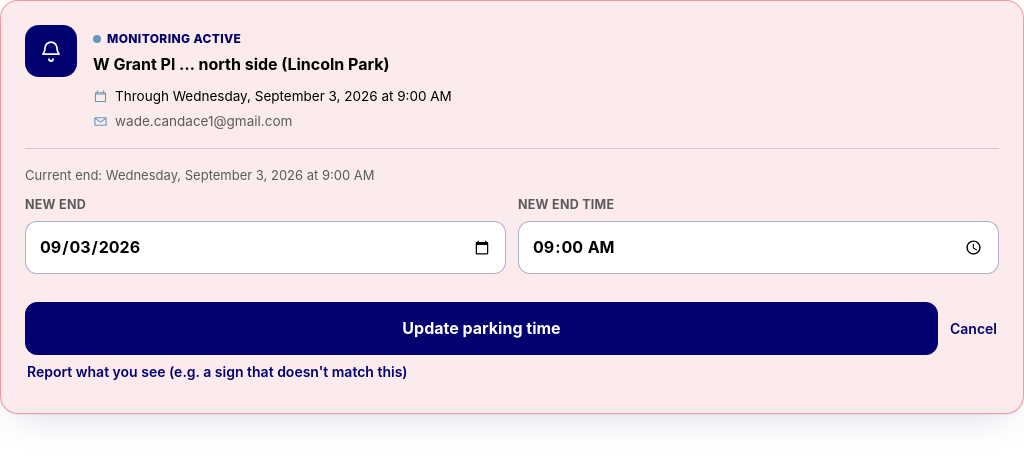
Scenario: MonitorBanner › successful extend updates the monitor and shows the re-evaluated result
Step 1. Type "2026-09-06" into the date field labelled "New end" → (266, 248), box [25,221,506,274]
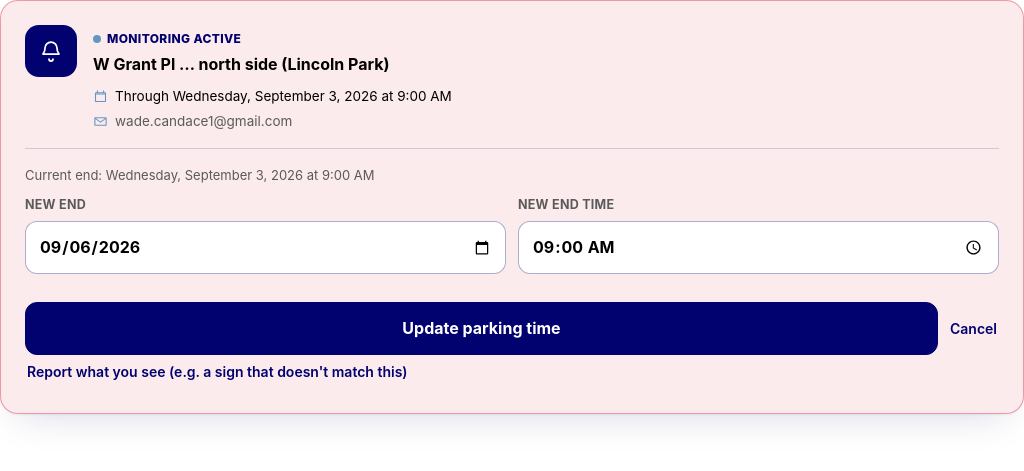
Step 2. Replace the text in the time field showing "09:00" with "12:00" → (758, 248), box [518,221,999,274]
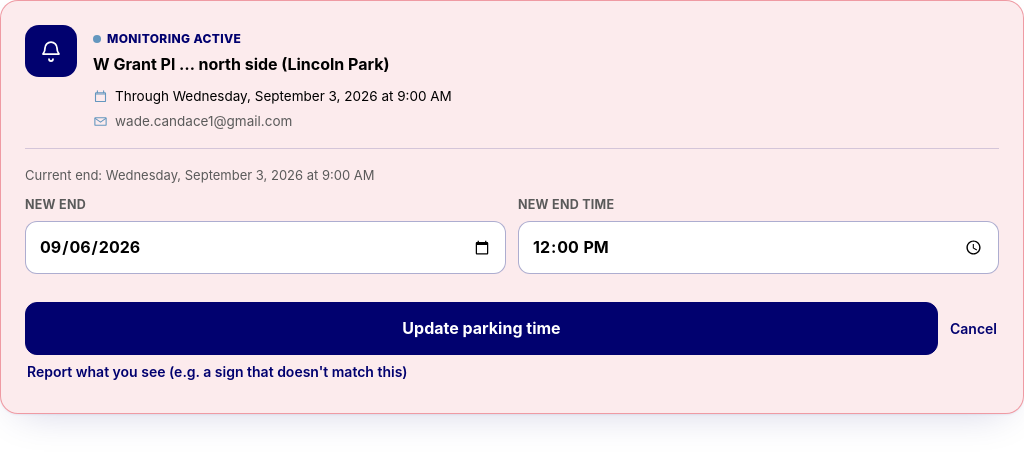
Step 3. Click the button "Update parking time" → (482, 328), box [25,302,938,355]
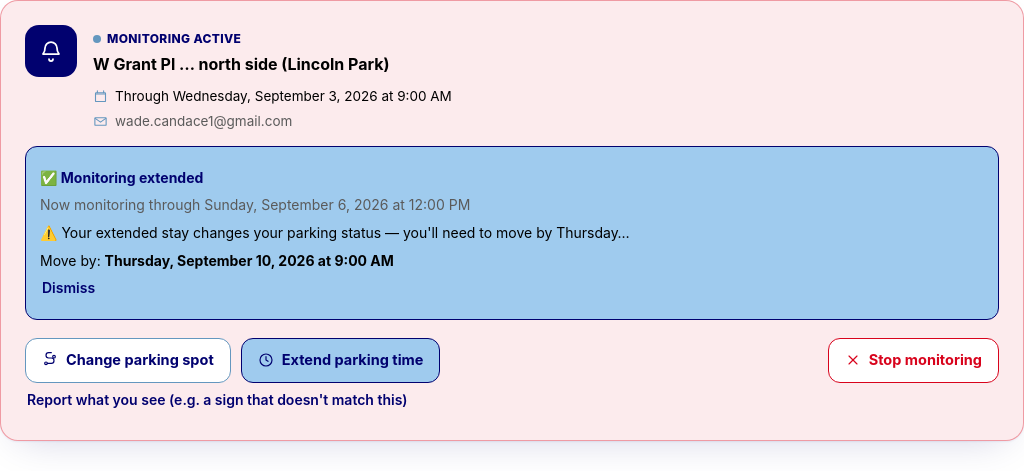
Check: the text "✅ Monitoring extended" is shown, box [40,169,203,186]
Check: the text "Thursday, September 10, 2026 at 9:00 AM" is shown, box [105,252,394,269]
